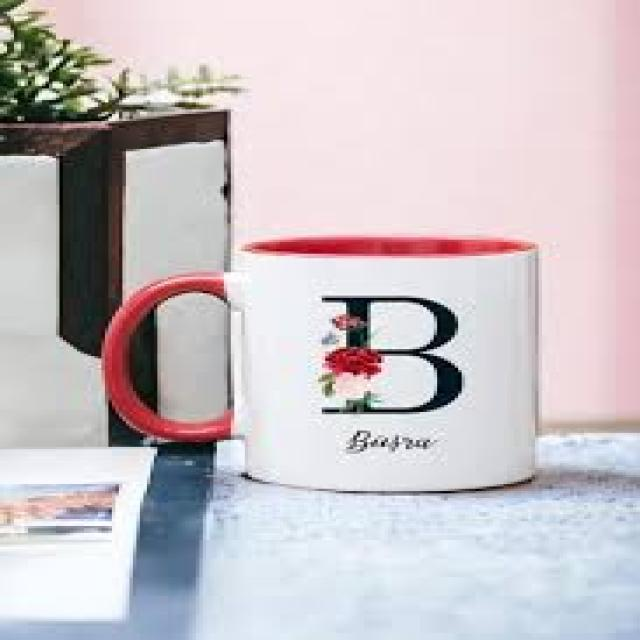taza: (100, 235, 540, 492)
